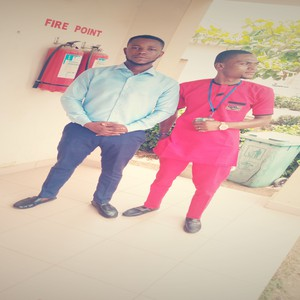Fulokoja_male_student: (190, 49, 265, 233), (94, 39, 169, 217)
